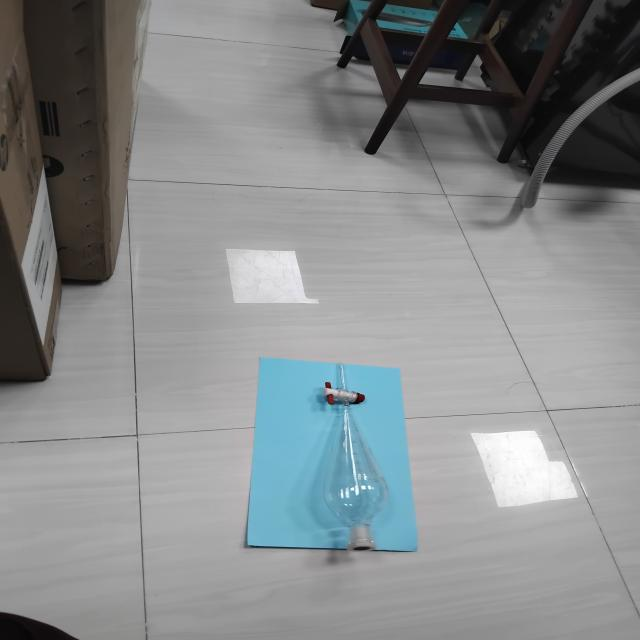Separating_Funnel: (292, 350, 419, 572)
